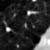node: (26, 10, 37, 16), (5, 26, 12, 33), (23, 21, 28, 29), (15, 43, 20, 48), (32, 24, 36, 29), (13, 13, 17, 17), (31, 1, 37, 3)
